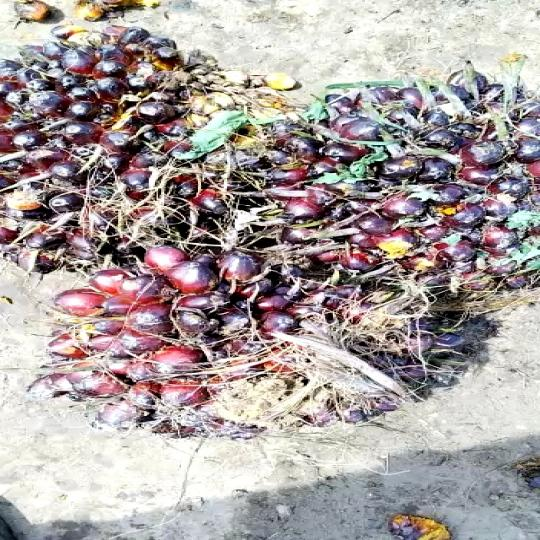kurang masak: (75, 151, 483, 438), (0, 34, 281, 269), (276, 54, 540, 282)
